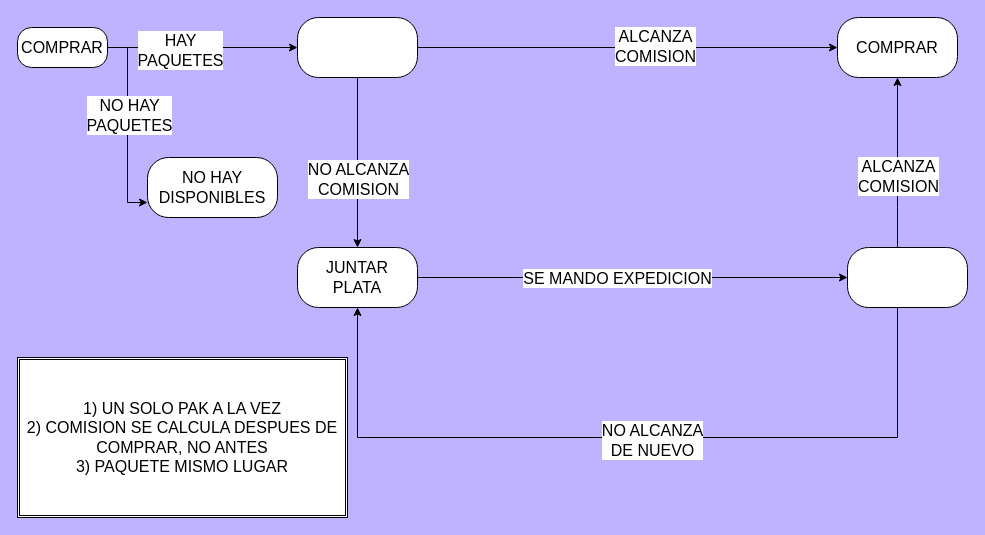
Image size: 985x535. Some labels were removed from this diagram. The shapes that lost their labels are listed below. From the top down, each one's centre as x and y in pixels, then its label:
At (x=357, y=47): "COMPRADO/ DEVOLVER".
At (x=907, y=277): "PLATA JUNTADA".
